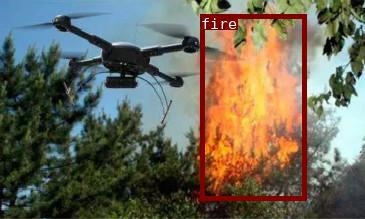fire: (199, 14, 305, 200)
